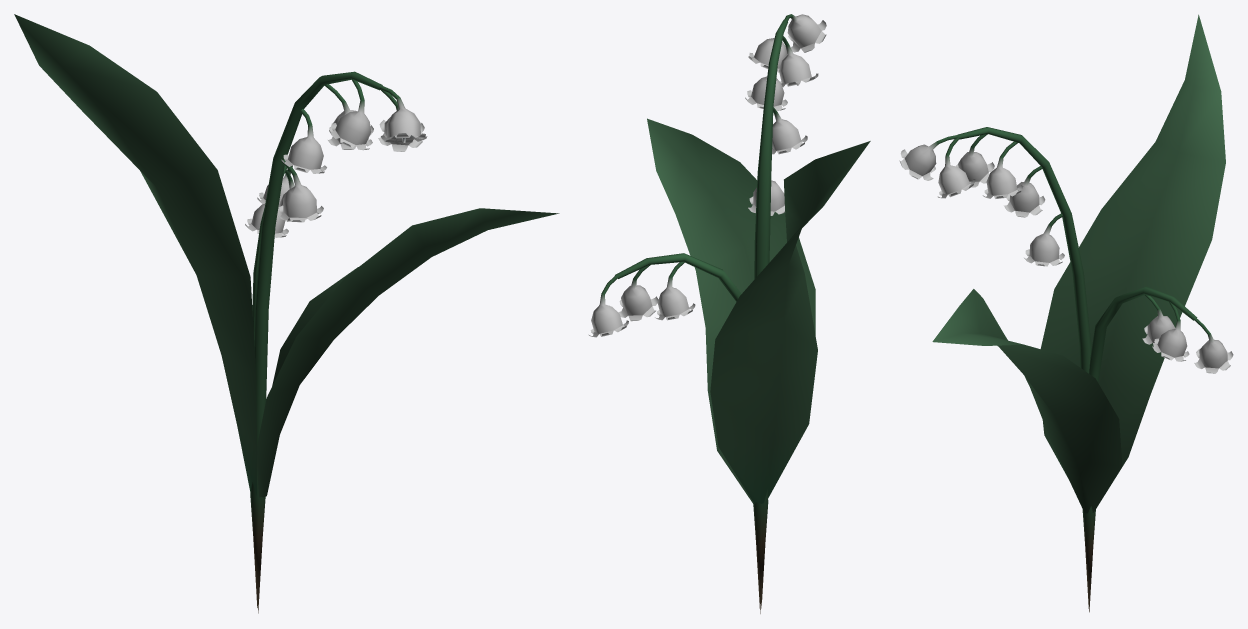
File: plants-flowers-lily-of-the-valley_v2.glb
3 views of the same model, side by side, from view 1: azimuth 30°, elevation 25°; view 2: azimuth 150°, elevation 25°; view 3: azimuth 270°, elevation 25° (orthographic). The views are drawn at different scales.
Visible parts, largest first — view 1: Lily of the Valley_v2; view 2: Lily of the Valley_v2; view 3: Lily of the Valley_v2.
Part boxes in pixels (box(x1,y1,x2,y2)): Lily of the Valley_v2: box(14, 14, 559, 613); Lily of the Valley_v2: box(588, 14, 870, 613); Lily of the Valley_v2: box(899, 14, 1233, 612).
Bounding box in the file's own units: 0.1716 × 0.25 × 0.1445.
